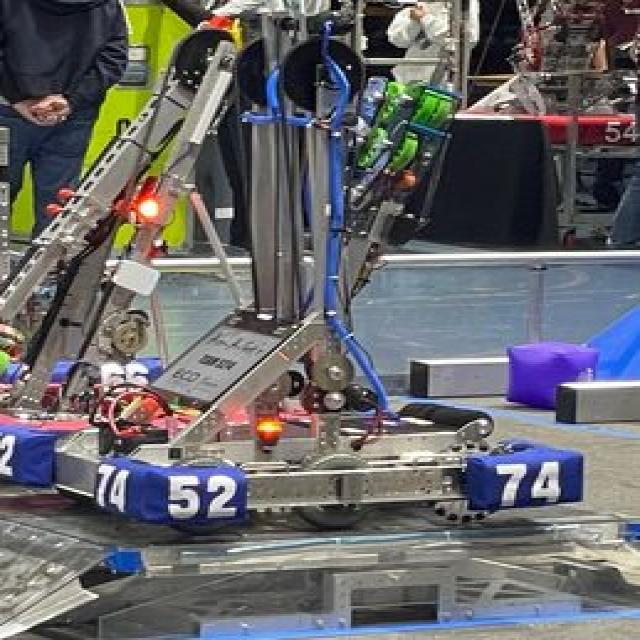robot: (0, 0, 593, 535)
